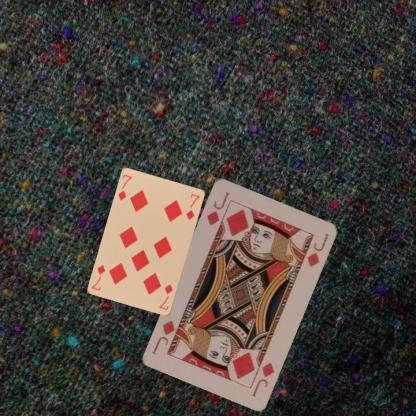7d: (116, 172, 134, 202), (156, 282, 174, 311)
Jd: (248, 359, 276, 398), (203, 188, 231, 226)
